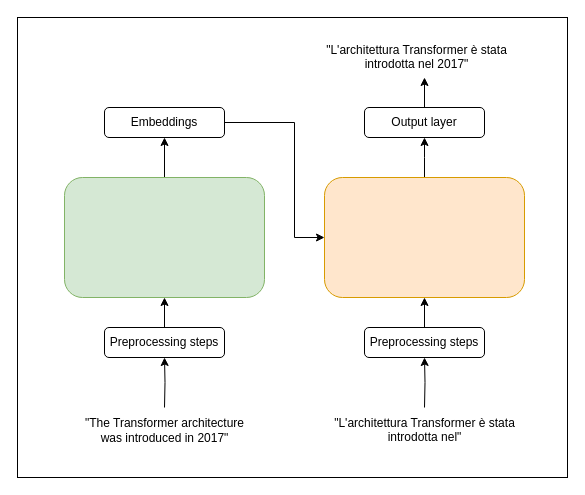
Some shapes in this 585 by 495 pixel diagram are drawn without their labels. Each missing label, with the centre of its shape:
Decoder: the point at 424,237
Encoder: the point at 164,237
